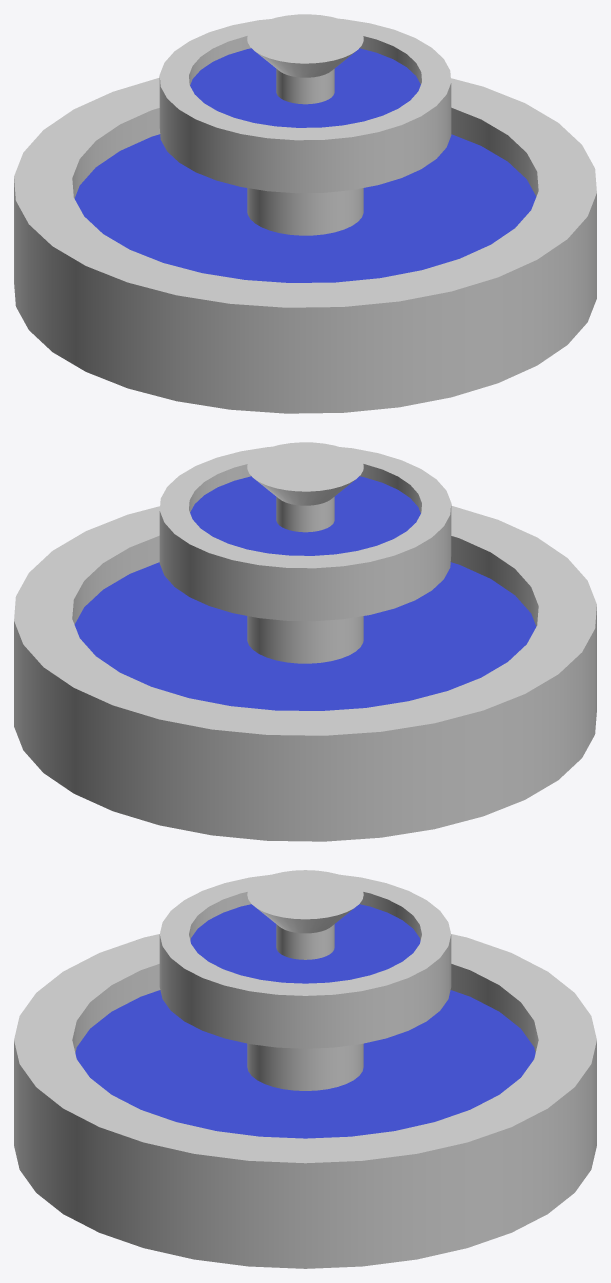
File: Brunnen.fbx
The picture shows the model from 3 angles, top to bottom: view 1: azimuth 30°, elevation 25°; view 2: azimuth 150°, elevation 25°; view 3: azimuth 270°, elevation 25°; orthographic projection.
Parts seen in each view (by area): view 1: Brunnen; view 2: Brunnen; view 3: Brunnen.
Part boxes in pixels (bbox=[...]): Brunnen: bbox=[14, 14, 596, 413]; Brunnen: bbox=[14, 442, 596, 841]; Brunnen: bbox=[14, 870, 596, 1268].
Size of the model in its own units: 1000 by 475 by 1000.
